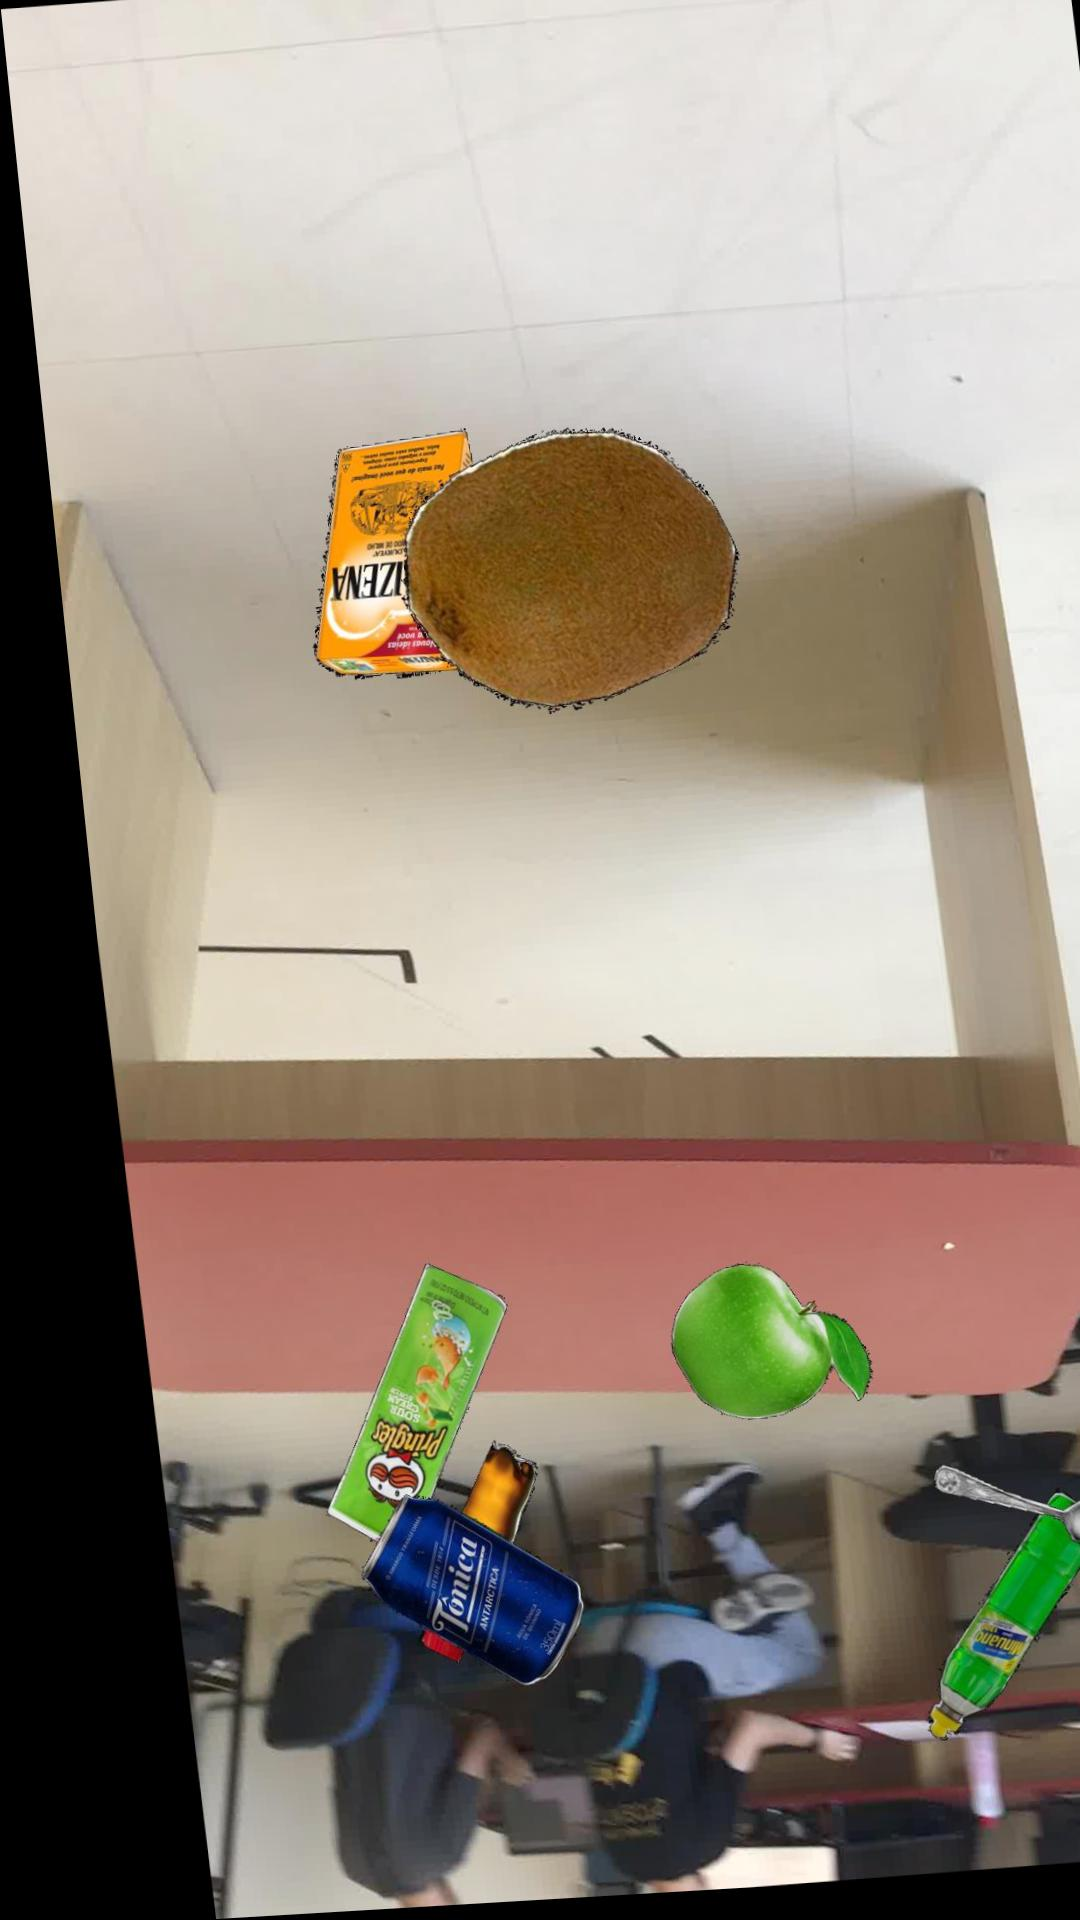cleaner: (887, 1503, 1056, 1750)
green apple: (640, 1273, 840, 1428)
guarana: (381, 1448, 504, 1668)
kiwi: (386, 435, 724, 721)
pringles: (291, 1269, 476, 1547)
spoon: (898, 1476, 1080, 1565)
tonic: (324, 1499, 546, 1692)
